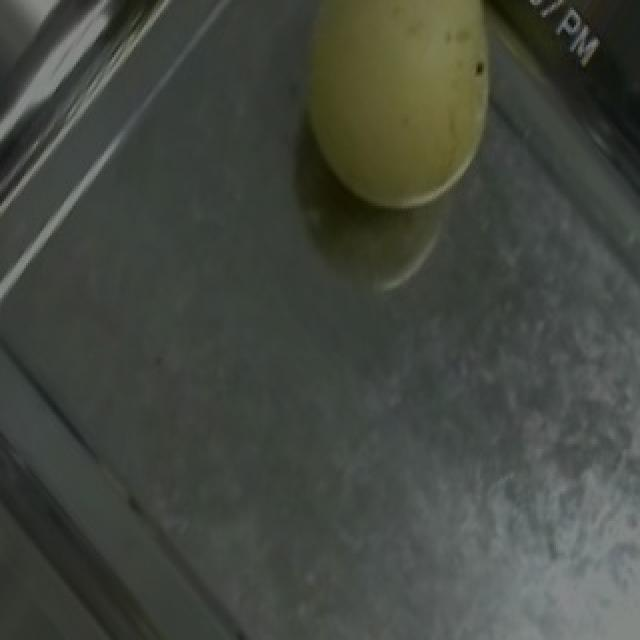Fruit: (256, 0, 542, 246)
